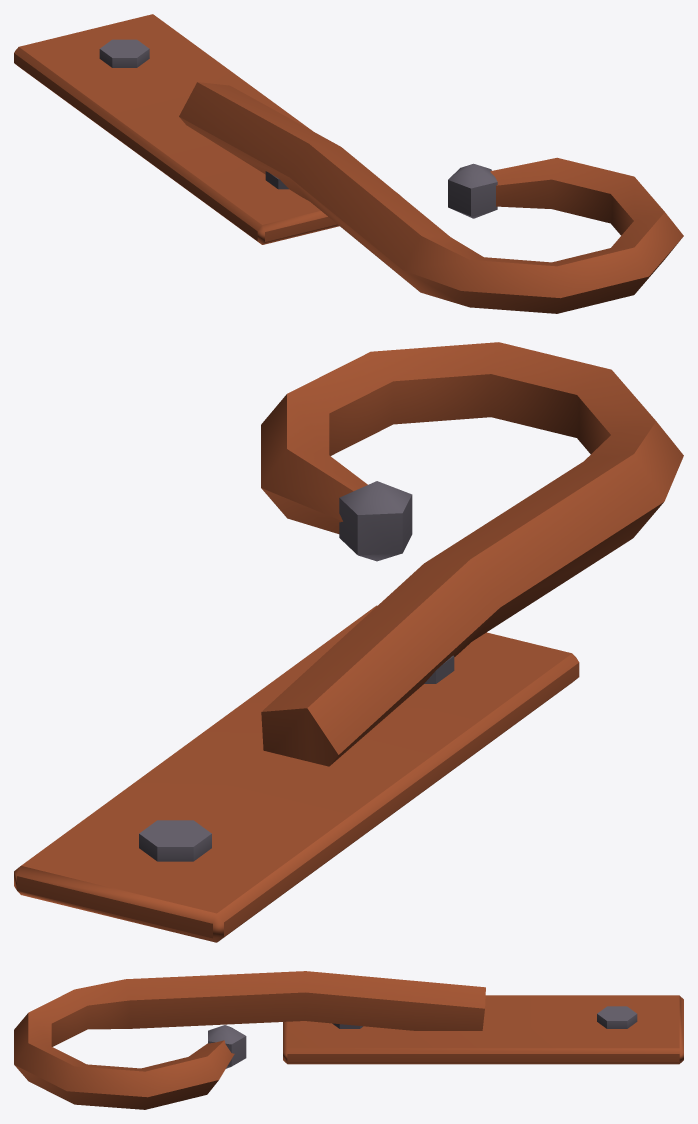
The model's file is curio_lanternHook.glb.
3 renders of one model, top to bottom at view 1: azimuth 30°, elevation 25°; view 2: azimuth 150°, elevation 25°; view 3: azimuth 270°, elevation 25°, orthographic. The views are drawn at different scales.
Visible parts, largest first — view 1: curio_lanternHook; view 2: curio_lanternHook; view 3: curio_lanternHook.
Part boxes in pixels (x1,y1,x2,y2): curio_lanternHook: (14,14,683,313); curio_lanternHook: (14,342,683,942); curio_lanternHook: (14,971,683,1109).
Bounding box in the file's own units: 0.0636 × 0.0157 × 0.1504.
